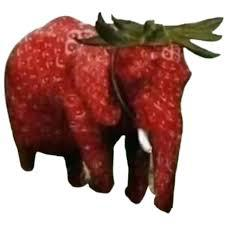strawberry-elephant: (6, 16, 214, 214)
